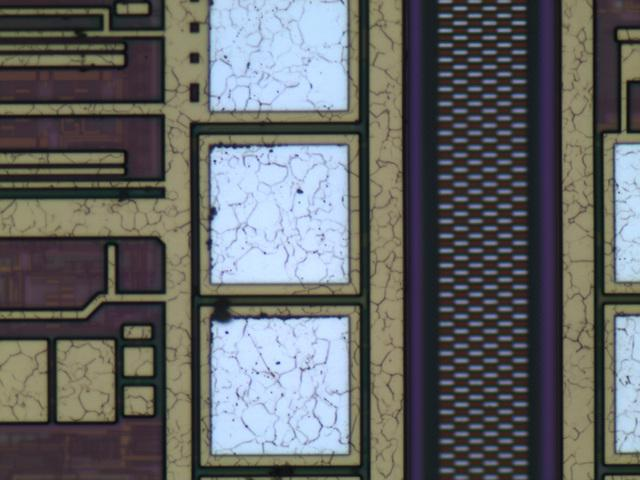PO CONTAMINATION: (201, 137, 313, 332)
